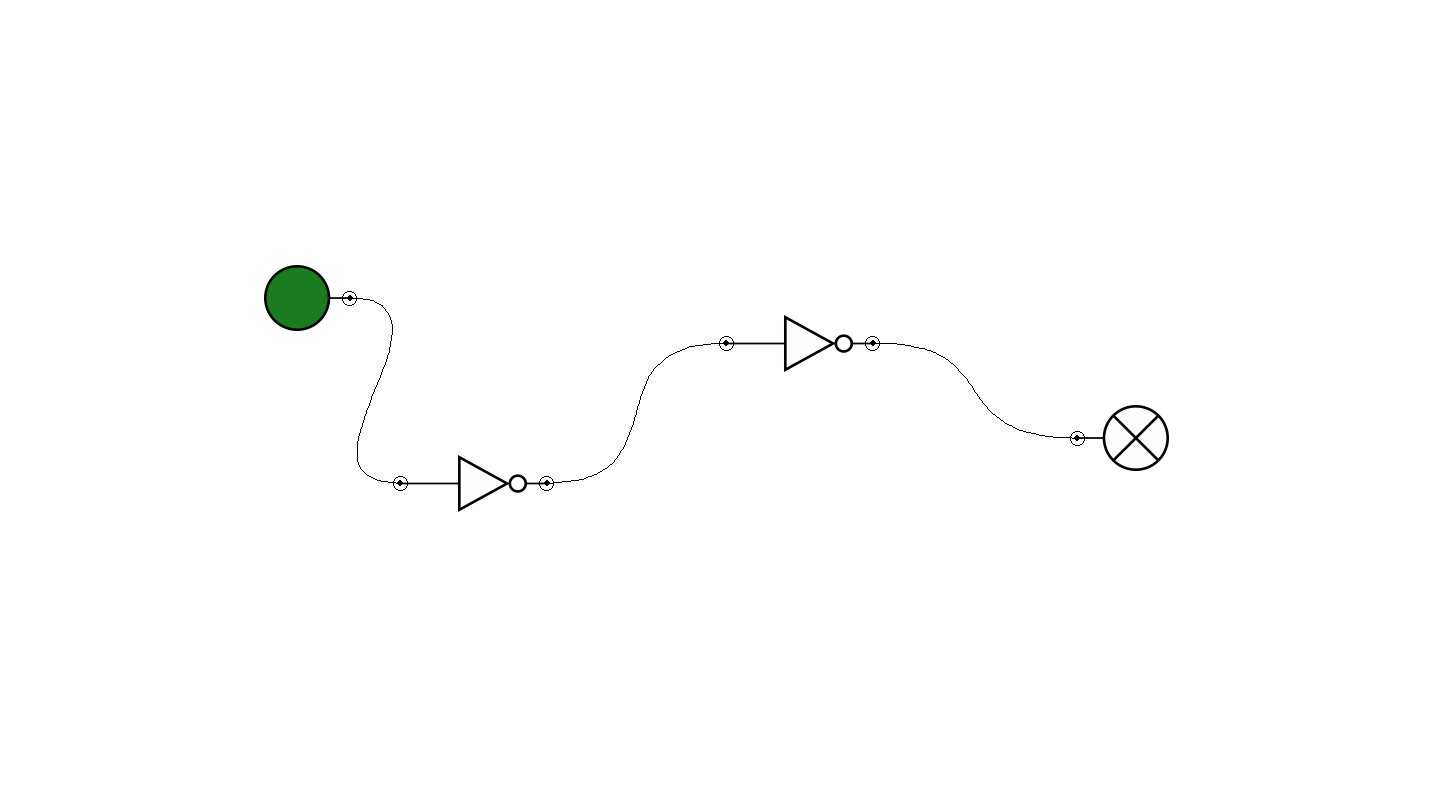bulb: (1070, 405, 1169, 471)
not: (719, 315, 880, 372), (393, 455, 554, 512)
switch_True: (264, 265, 357, 331)
